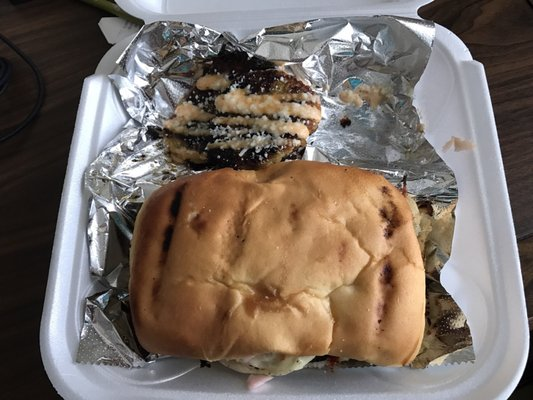salad: (128, 161, 427, 374)
